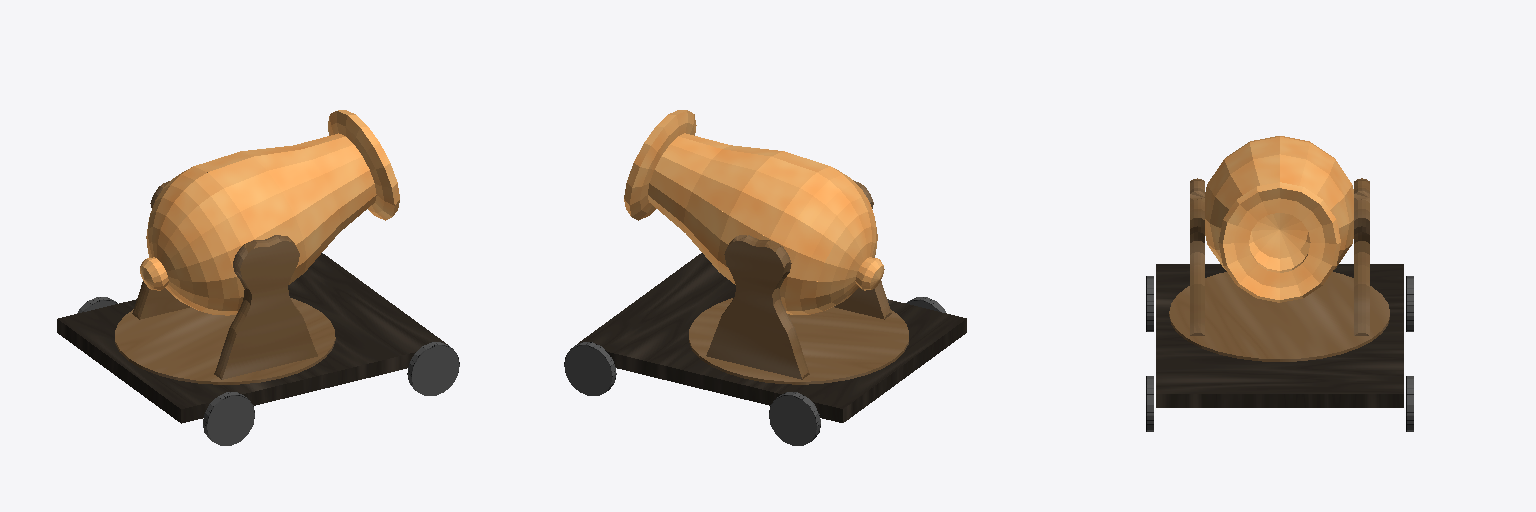
The picture shows the model from 3 angles: view 1: azimuth 30°, elevation 25°; view 2: azimuth 150°, elevation 25°; view 3: azimuth 270°, elevation 25°; orthographic projection.
Visible parts, largest first — view 1: Wheels_Circle.005; view 2: Wheels_Circle.005; view 3: Wheels_Circle.005.
Part boxes in pixels (bbox=[...]): Wheels_Circle.005: bbox=[57, 110, 459, 445]; Wheels_Circle.005: bbox=[564, 110, 966, 445]; Wheels_Circle.005: bbox=[1146, 136, 1413, 431].
Bounding box in the file's own units: 4.01 × 3.32 × 3.41.
1 materials, 1 textured.